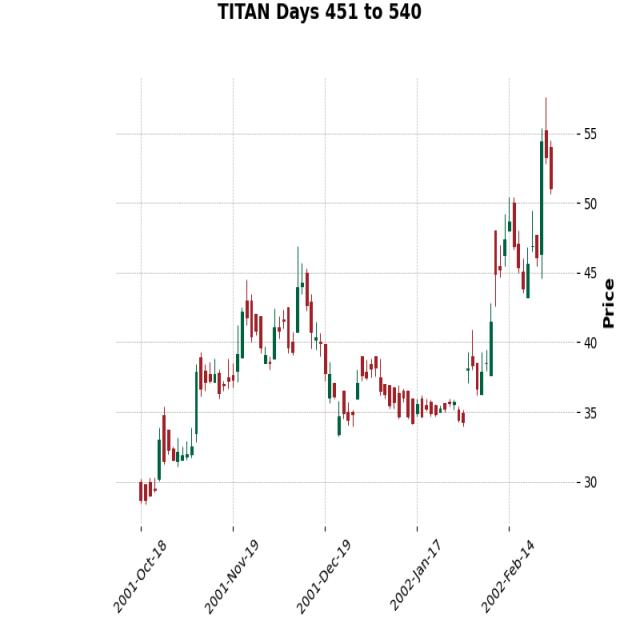Triple Bottom Reversal: (136, 284, 442, 500)
